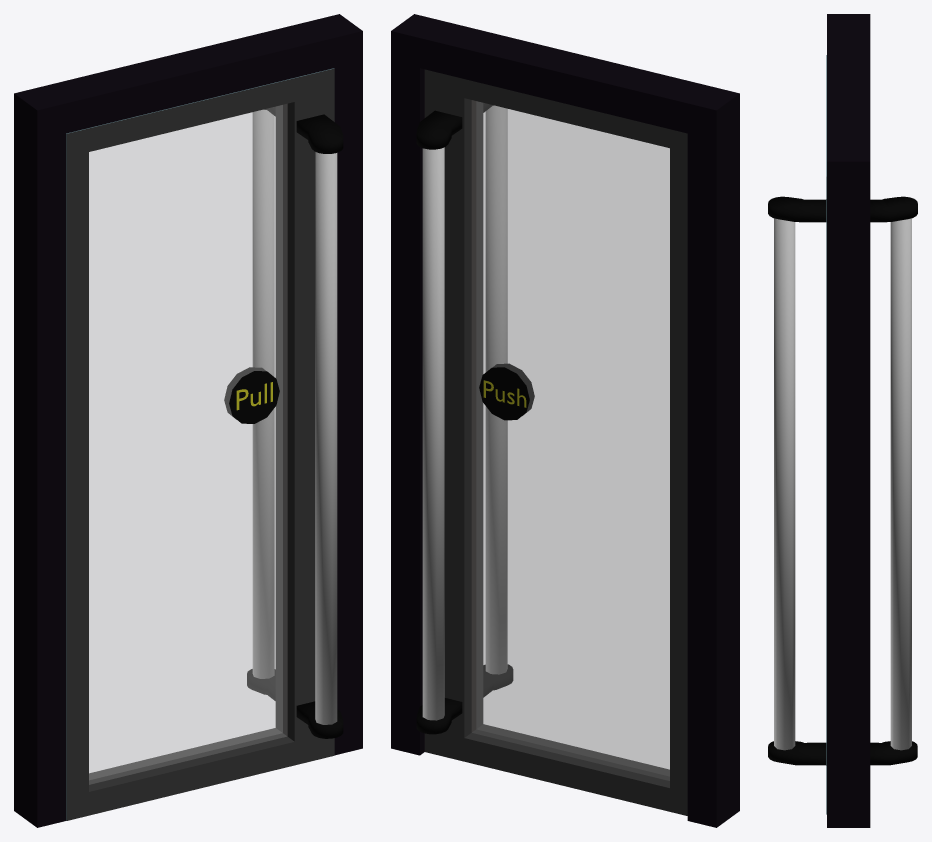
File: d-door-campus-entry.glb
3 views of the same model, side by side, from view 1: azimuth 30°, elevation 25°; view 2: azimuth 150°, elevation 25°; view 3: azimuth 270°, elevation 25° (orthographic). The views are drawn at different scales.
Parts seen in each view (by area): view 1: Door4.001, spaceEntranceDoor.001; view 2: Door4.001, spaceEntranceDoor.001; view 3: spaceEntranceDoor.001, Door4.001.
Boxes of the visible parts, bbox=[...] form: Door4.001: bbox=[66, 68, 343, 820]; spaceEntranceDoor.001: bbox=[14, 14, 362, 827]; Door4.001: bbox=[416, 69, 687, 815]; spaceEntranceDoor.001: bbox=[391, 14, 739, 827]; spaceEntranceDoor.001: bbox=[827, 14, 870, 827]; Door4.001: bbox=[768, 55, 917, 814].
Size of the model in its own units: 0.9425 by 1.99 by 0.4043.
Materials: 2 (1 with a texture image).
